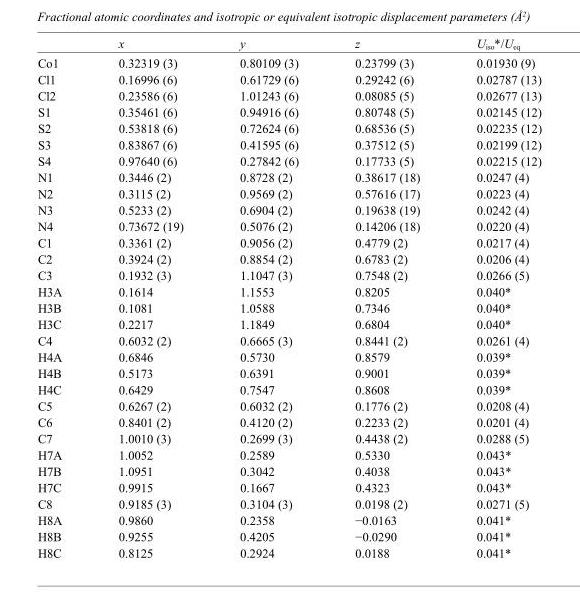table: (36, 36, 541, 559)
table column: (89, 36, 210, 559), (326, 36, 447, 559), (210, 36, 326, 559), (447, 36, 541, 559), (36, 36, 89, 559)
table column header: (36, 36, 541, 53)
table row: (36, 53, 541, 71), (36, 36, 541, 53), (36, 103, 541, 120), (36, 152, 541, 169), (36, 201, 541, 218), (36, 250, 541, 267), (36, 299, 541, 316), (36, 348, 541, 365), (36, 397, 541, 414), (36, 462, 541, 479), (36, 511, 541, 528), (36, 71, 541, 87), (36, 87, 541, 103), (36, 120, 541, 136), (36, 136, 541, 152), (36, 169, 541, 185), (36, 185, 541, 201), (36, 218, 541, 234), (36, 234, 541, 250), (36, 267, 541, 283), (36, 283, 541, 299), (36, 316, 541, 332), (36, 332, 541, 348), (36, 365, 541, 381), (36, 381, 541, 397), (36, 414, 541, 430), (36, 430, 541, 446), (36, 446, 541, 462), (36, 479, 541, 495), (36, 495, 541, 511), (36, 528, 541, 544), (36, 544, 541, 559)
